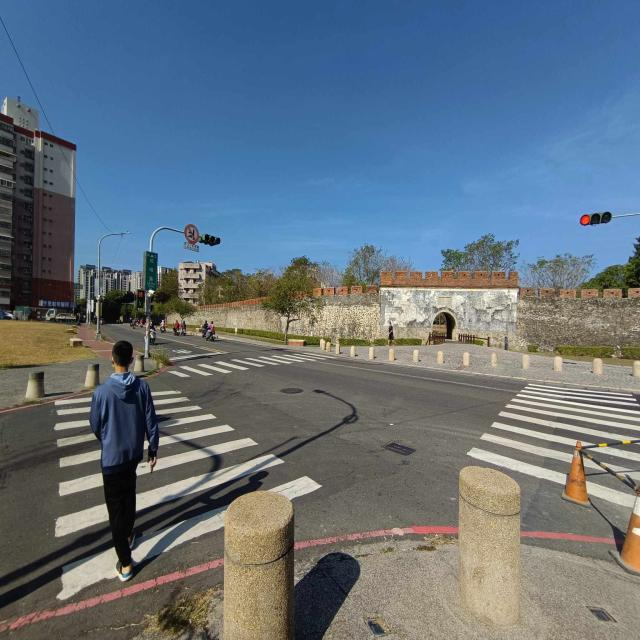person: (89, 340, 159, 582)
zebra crossing: (56, 385, 321, 600), (469, 376, 640, 485), (170, 351, 335, 381)
